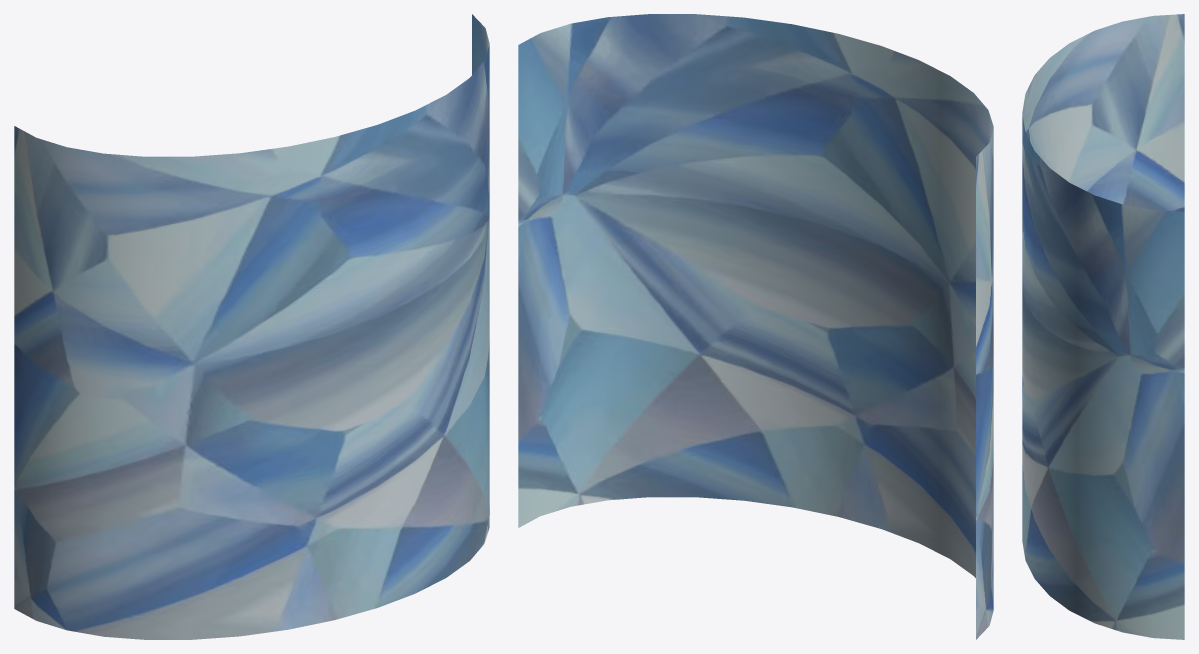
The model's file is Fond pierre.fbx.
The picture shows the model from 3 angles, left to right: view 1: azimuth 30°, elevation 25°; view 2: azimuth 150°, elevation 25°; view 3: azimuth 270°, elevation 25°; orthographic projection. The views are drawn at different scales.
Visible parts, largest first — view 1: Cylinder; view 2: Cylinder; view 3: Cylinder.
Boxes of the visible parts, bbox=[...] form: Cylinder: bbox=[14, 14, 489, 639]; Cylinder: bbox=[518, 14, 993, 639]; Cylinder: bbox=[1022, 14, 1184, 639].
Size of the model in its own units: 2878 by 2902 by 998.
1 material, 1 textured.
